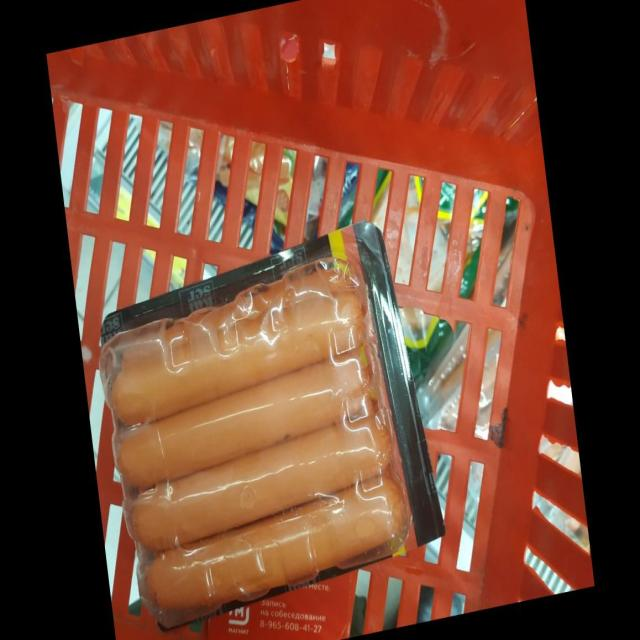Sausages: (99, 221, 444, 627)
